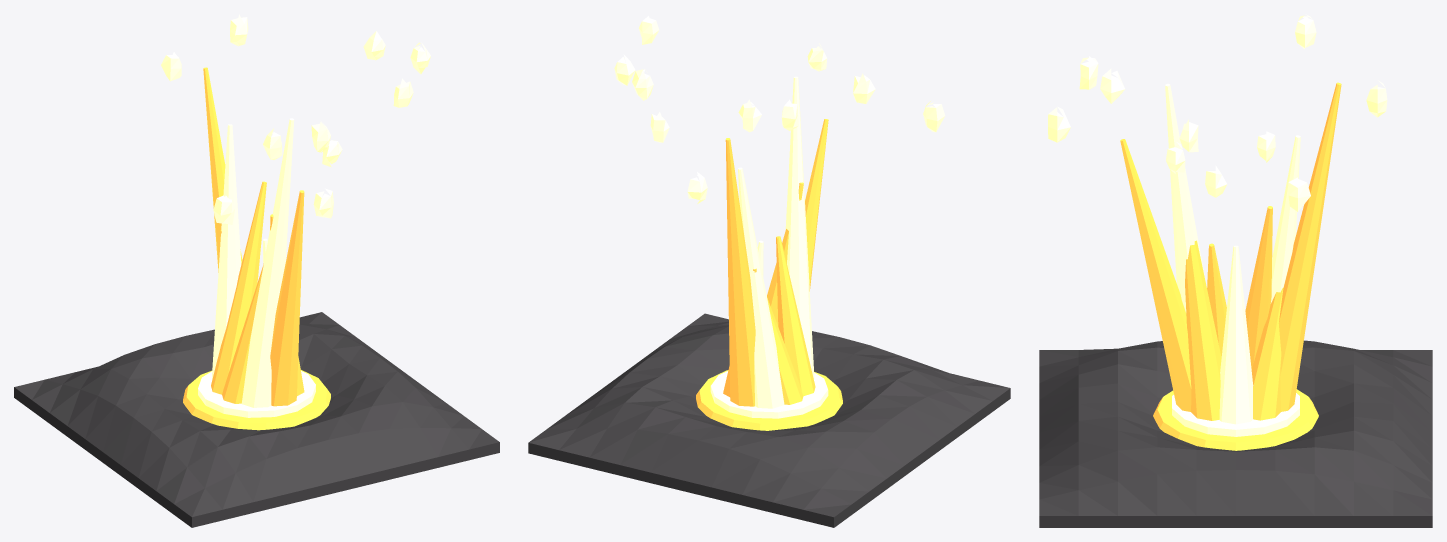
File: volcano-and-lava-fields-volcano-and-lava-fields-lava-f-e483e5c3.glb
3 renders of one model, left to right at view 1: azimuth 30°, elevation 25°; view 2: azimuth 150°, elevation 25°; view 3: azimuth 270°, elevation 25°, orthographic. The views are drawn at different scales.
Visible parts, largest first — view 1: volcano-and-lava-fields-lava-fountain-plate; view 2: volcano-and-lava-fields-lava-fountain-plate; view 3: volcano-and-lava-fields-lava-fountain-plate.
Boxes of the visible parts, bbox=[...] form: volcano-and-lava-fields-lava-fountain-plate: bbox=[14, 14, 499, 527]; volcano-and-lava-fields-lava-fountain-plate: bbox=[528, 16, 1010, 527]; volcano-and-lava-fields-lava-fountain-plate: bbox=[1039, 14, 1432, 527].
Bounding box in the file's own units: 3 × 3.39 × 3.
